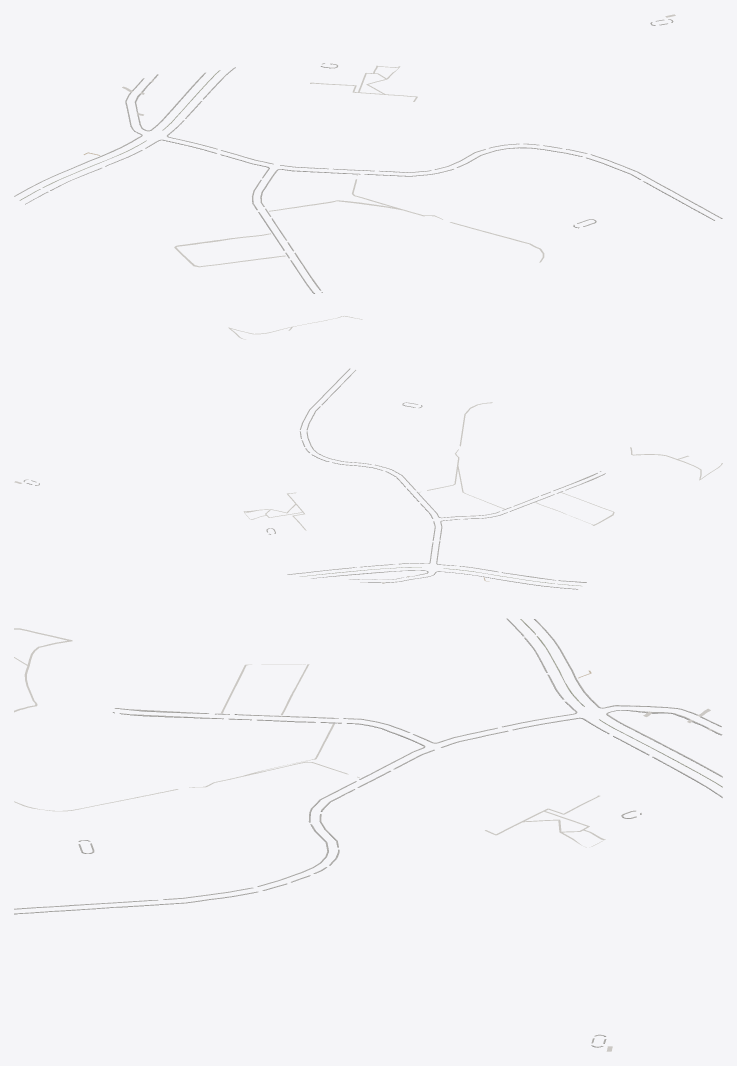
File: ground_r3_c6.glb
3 renders of one model, top to bottom at view 1: azimuth 30°, elevation 25°; view 2: azimuth 150°, elevation 25°; view 3: azimuth 270°, elevation 25°, orthographic. The views are drawn at different scales.
Visible parts, largest first — view 1: sidewalks, paths; view 2: sidewalks, paths; view 3: sidewalks, paths.
Boxes of the visible parts, bbox=[...] form: sidewalks: bbox=[14, 19, 722, 293]; paths: bbox=[83, 65, 544, 339]; sidewalks: bbox=[23, 368, 605, 589]; paths: bbox=[243, 402, 722, 581]; sidewalks: bbox=[14, 618, 722, 1047]; paths: bbox=[14, 628, 605, 847].
Bounding box in the file's own units: 1108 × 39.4 × 788.
